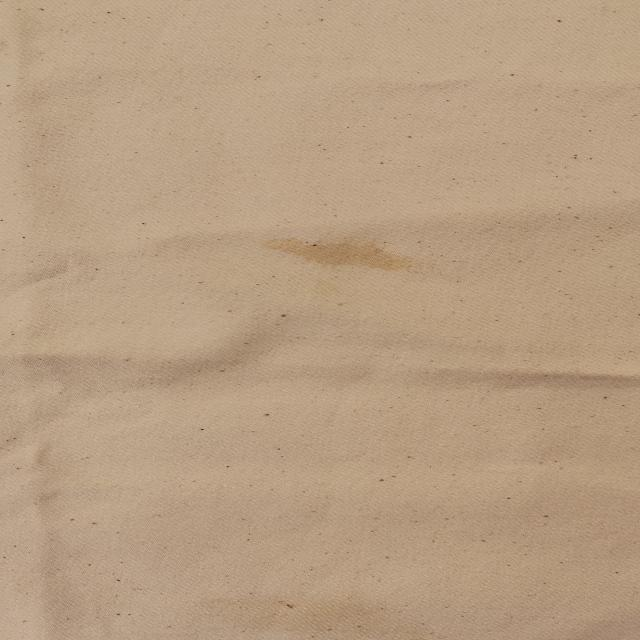taaaches: (267, 219, 441, 282)
